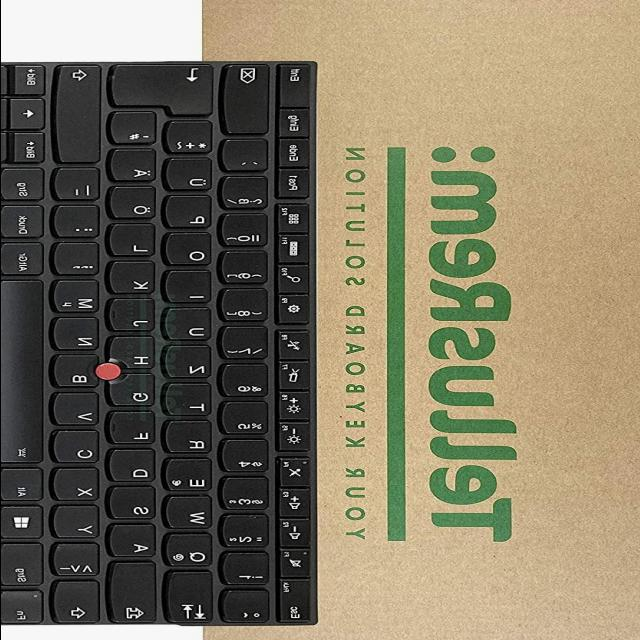0: (222, 215, 271, 250)
1: (223, 553, 273, 587)
2: (223, 516, 273, 550)
3: (222, 478, 272, 512)
4: (222, 441, 272, 475)
5: (222, 403, 271, 437)
6: (222, 365, 271, 399)
7: (222, 327, 271, 361)
8: (221, 290, 270, 324)
9: (221, 252, 271, 287)
a: (110, 525, 160, 559)
accent: (223, 141, 273, 175)
ae: (109, 150, 159, 184)
alt-left: (0, 470, 47, 504)
altgr-right: (0, 244, 48, 278)
b: (54, 356, 102, 391)
c: (53, 431, 103, 466)
caret: (223, 592, 273, 626)
comma: (54, 244, 103, 278)
d: (109, 450, 159, 484)
del: (223, 65, 273, 137)
e: (165, 460, 215, 494)
enter: (109, 65, 218, 118)
f: (109, 413, 158, 447)
g: (109, 376, 159, 409)
h: (110, 337, 158, 371)
hash: (111, 113, 160, 147)
i: (165, 271, 214, 305)
j: (109, 300, 159, 334)
k: (109, 262, 159, 296)
keyboard: (0, 61, 324, 629)
l: (109, 226, 159, 259)
less: (54, 544, 104, 578)
m: (52, 281, 102, 315)
minus: (56, 170, 104, 204)
n: (53, 319, 102, 353)
o: (165, 234, 215, 268)
oe: (109, 187, 159, 221)
p: (165, 197, 215, 231)
plus: (167, 122, 216, 156)
point: (55, 206, 104, 240)
q: (166, 534, 216, 569)
r: (165, 422, 215, 456)
s: (109, 488, 159, 522)
shift-left: (54, 582, 104, 626)
shift-lock: (110, 564, 160, 626)
shift-right: (56, 67, 106, 166)
space: (0, 281, 47, 467)
ss: (222, 177, 271, 211)
strg-left: (0, 544, 47, 590)
strg-right: (0, 170, 49, 204)
t: (165, 384, 215, 418)
tab: (167, 573, 217, 626)
u: (165, 309, 215, 343)
ue: (163, 159, 215, 193)
v: (53, 394, 102, 428)
w: (166, 497, 216, 531)
x: (53, 469, 103, 503)
y: (53, 506, 103, 541)
z: (165, 347, 215, 381)
